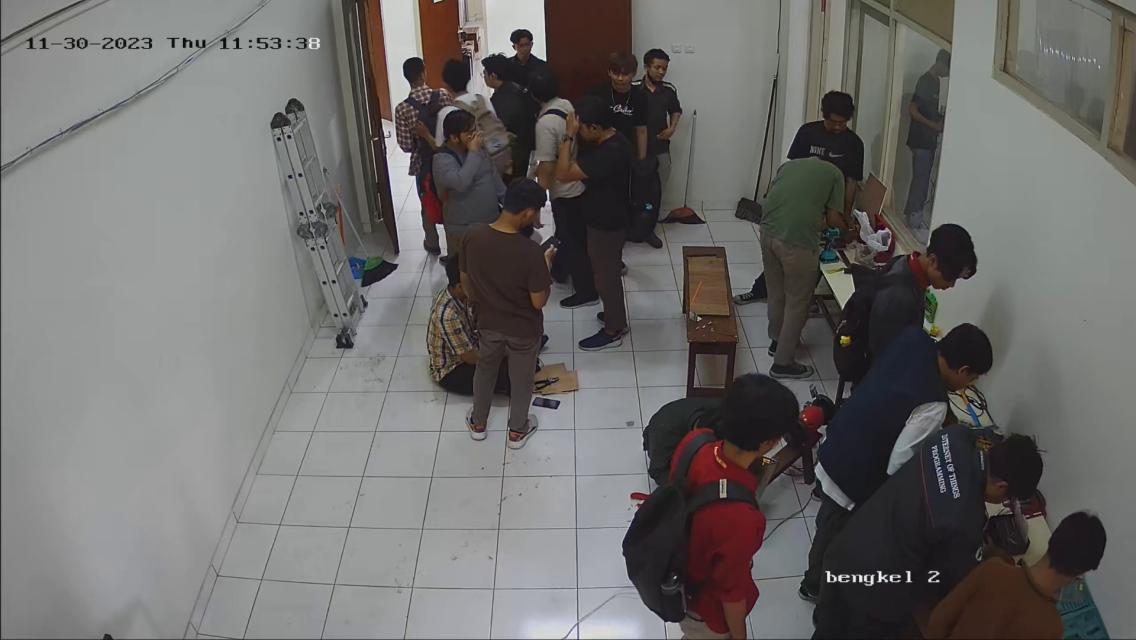Crowd: (359, 18, 716, 433)
